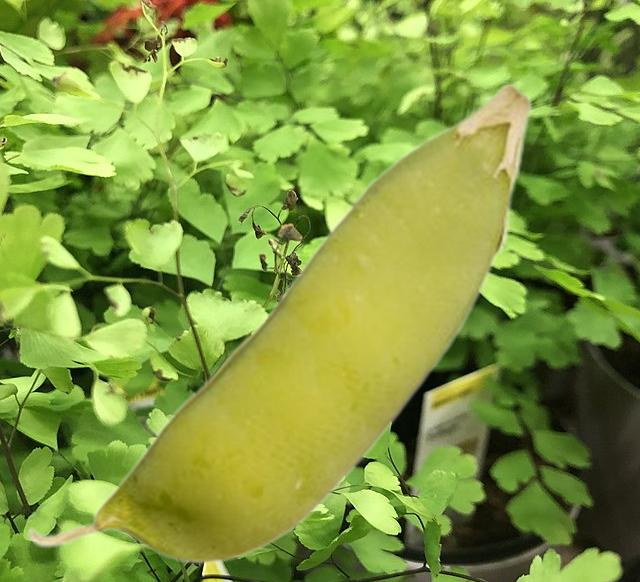pea: (26, 82, 532, 563)
